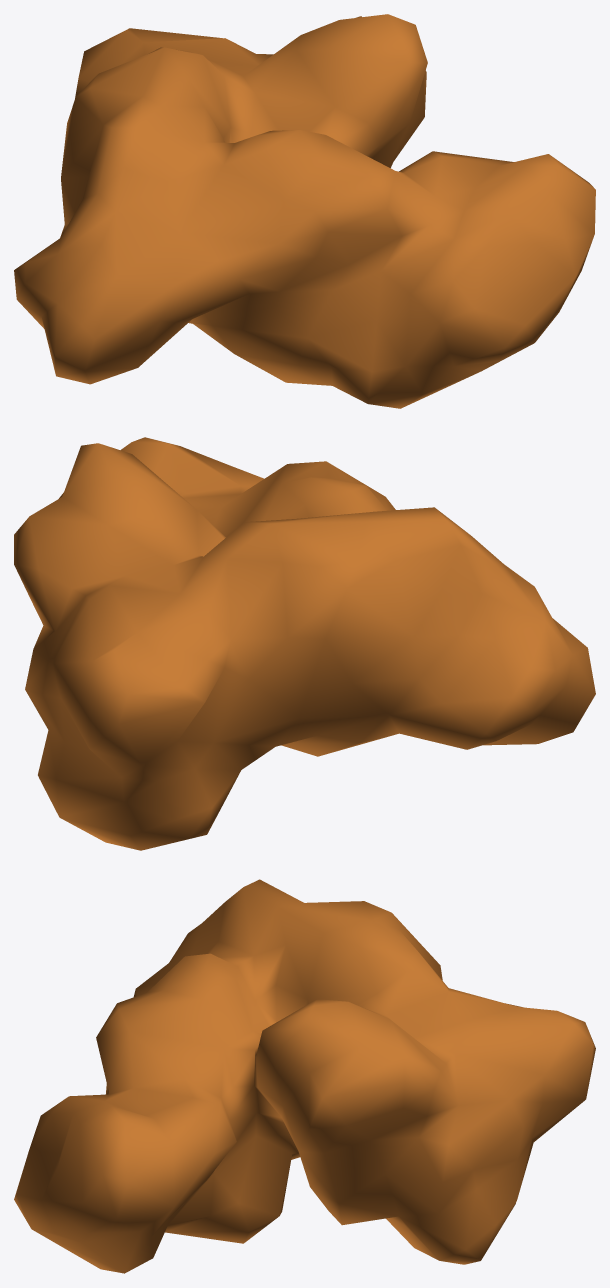
Rendered from SerumAlbumin.fbx.
3 views of the same model, one above another, from view 1: azimuth 30°, elevation 25°; view 2: azimuth 150°, elevation 25°; view 3: azimuth 270°, elevation 25° (orthographic). The views are drawn at different scales.
Visible parts, largest first — view 1: CoarseMS_1e7iRed90; view 2: CoarseMS_1e7iRed90; view 3: CoarseMS_1e7iRed90.
Boxes of the visible parts, x1,y1,x2,y2 form: CoarseMS_1e7iRed90: (14,14,595,408); CoarseMS_1e7iRed90: (14,437,595,850); CoarseMS_1e7iRed90: (14,879,595,1273).
Size of the model in its own units: 88.73 by 50.42 by 88.95.
